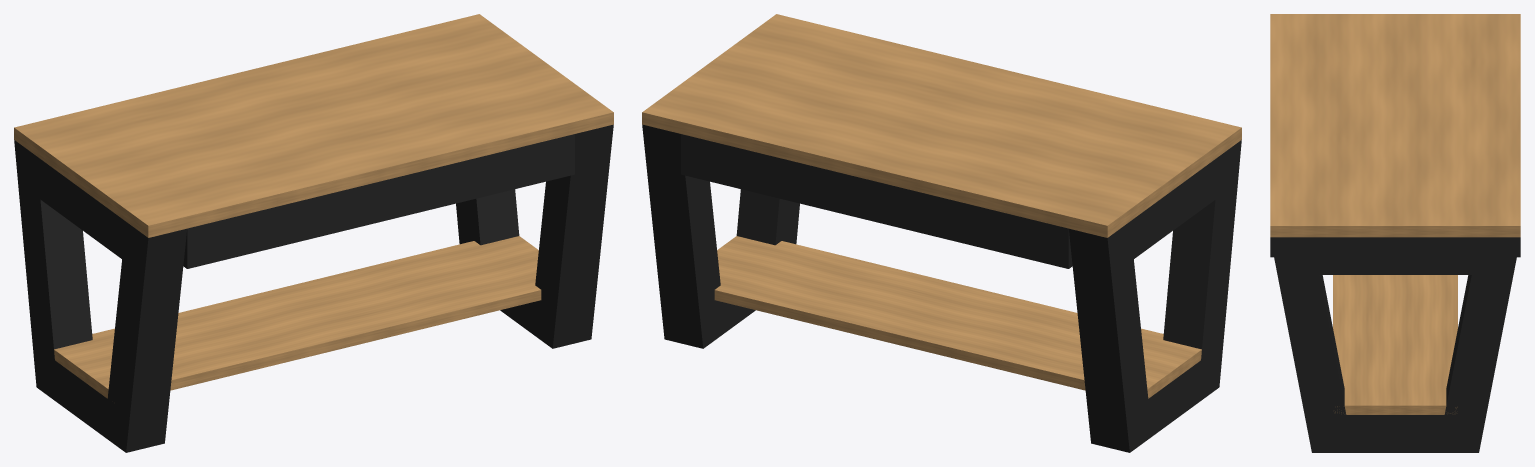
Rendered from mesa-living-nord-estante-miel-negro-10cm.glb.
The picture shows the model from 3 angles, left to right: view 1: azimuth 30°, elevation 25°; view 2: azimuth 150°, elevation 25°; view 3: azimuth 270°, elevation 25°; orthographic projection. The views are drawn at different scales.
Parts seen in each view (by area): view 1: Tapa de madera maciza 120 x 60 x 3 cm, Patas inclinadas con cortes a inglete, Estante inferior de madera de 120 cm (proporción aproximada), Larguero longitudinal superior de hierro 10 x 10 mm, Travesaño superior del trapecio, perfil 10 cm, Travesaño inferior del trapecio, perfil 10 cm; view 2: Tapa de madera maciza 120 x 60 x 3 cm, Patas inclinadas con cortes a inglete, Estante inferior de madera de 120 cm (proporción aproximada), Larguero longitudinal superior de hierro 10 x 10 mm, Travesaño superior del trapecio, perfil 10 cm, Travesaño inferior del trapecio, perfil 10 cm (×2); view 3: Tapa de madera maciza 120 x 60 x 3 cm, Patas inclinadas con cortes a inglete, Estante inferior de madera de 120 cm (proporción aproximada), Travesaño superior del trapecio, perfil 10 cm, Travesaño inferior del trapecio, perfil 10 cm.
Boxes of the visible parts, left/top/right/bottom form: Tapa de madera maciza 120 x 60 x 3 cm: left=14, top=14, right=613, bottom=237; Patas inclinadas con cortes a inglete: left=14, top=124, right=613, bottom=452; Estante inferior de madera de 120 cm (proporción aproximada): left=54, top=236, right=541, bottom=398; Larguero longitudinal superior de hierro 10 x 10 mm: left=183, top=134, right=574, bottom=268; Travesaño superior del trapecio, perfil 10 cm: left=36, top=156, right=137, bottom=269; Travesaño inferior del trapecio, perfil 10 cm: left=55, top=360, right=114, bottom=438; Tapa de madera maciza 120 x 60 x 3 cm: left=642, top=14, right=1241, bottom=237; Patas inclinadas con cortes a inglete: left=642, top=124, right=1241, bottom=452; Estante inferior de madera de 120 cm (proporción aproximada): left=714, top=236, right=1201, bottom=398; Larguero longitudinal superior de hierro 10 x 10 mm: left=681, top=134, right=1072, bottom=268; Travesaño superior del trapecio, perfil 10 cm: left=1118, top=149, right=1230, bottom=268; Travesaño inferior del trapecio, perfil 10 cm (×2): left=715, top=300, right=1200, bottom=436; Tapa de madera maciza 120 x 60 x 3 cm: left=1270, top=14, right=1520, bottom=237; Patas inclinadas con cortes a inglete: left=1270, top=237, right=1520, bottom=452; Estante inferior de madera de 120 cm (proporción aproximada): left=1333, top=275, right=1457, bottom=414; Travesaño superior del trapecio, perfil 10 cm: left=1291, top=237, right=1499, bottom=274; Travesaño inferior del trapecio, perfil 10 cm: left=1333, top=415, right=1457, bottom=452.
Size of the model in its own units: 1.2 by 0.6 by 0.6.
2 materials, 1 textured.
